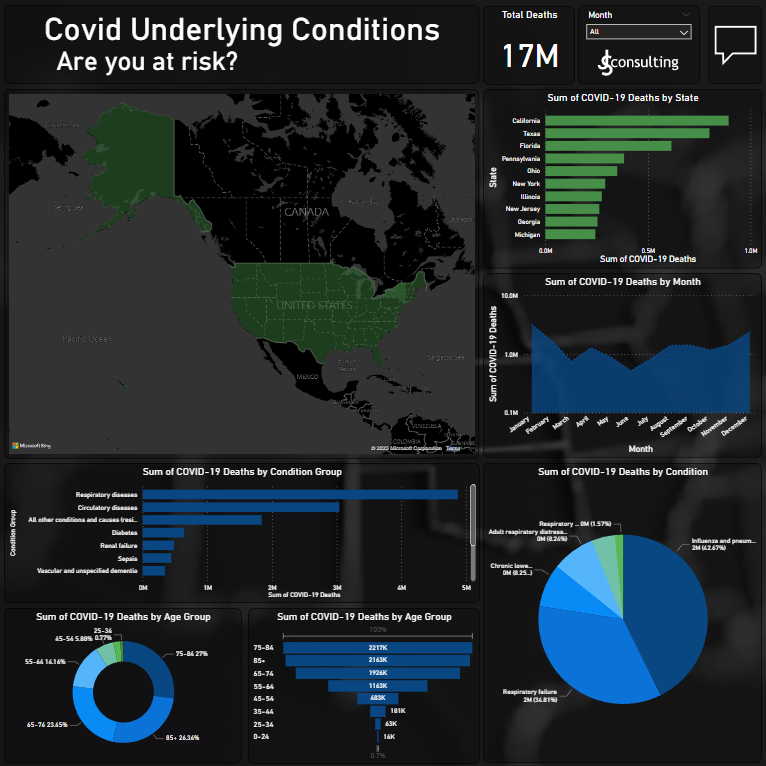

The page's visual inventory and layout, read from the dashboard file:
{"tool":"powerbi","page":{"name":"Covid Underlying Conditions Analysis","canvas":[1280,1280],"ordinal":0},"visuals":[{"type":"filledMap","fields":{"Category":["Covid_Deaths_Contributing_Conditions_Cleaned.State","Covid_Deaths_Contributing_Conditions_Cleaned.COVID-19 Deaths"]},"box":[6.7,147.8,792.2,615.6],"z":0},{"type":"barChart","fields":{"Y":["Sum(Covid_Deaths_Contributing_Conditions_Cleaned.COVID-19 Deaths)"],"Category":["Covid_Deaths_Contributing_Conditions_Cleaned.State"]},"box":[805,147.5,465,298.8],"z":1000},{"type":"card","title":"Total Deaths","fields":{"Values":["Sum(Covid_Deaths_Contributing_Conditions_Cleaned.COVID-19 Deaths)"]},"box":[805.6,10,153.3,131.1],"z":2000},{"type":"areaChart","fields":{"Category":["Covid_Deaths_Contributing_Conditions_Cleaned.Sample Start Date.Variation.Date Hierarchy.Month"],"Y":["Sum(Covid_Deaths_Contributing_Conditions_Cleaned.COVID-19 Deaths)"]},"box":[805,455,465,307.5],"z":3000},{"type":"textbox","box":[6.7,8.9,792.2,131.1],"z":4000},{"type":"actionButton","box":[1180,10,90,130],"z":6000},{"type":"slicer","fields":{"Values":["Covid_Deaths_Contributing_Conditions_Cleaned.Sample Start Date.Variation.Date Hierarchy.Month"]},"box":[958.9,9,202.6,130.6],"z":7000},{"type":"barChart","fields":{"Y":["Sum(Covid_Deaths_Contributing_Conditions_Cleaned.COVID-19 Deaths)"],"Category":["Covid_Deaths_Contributing_Conditions_Cleaned.Condition Group"]},"box":[6.2,771.2,792.5,232.5],"z":8000},{"type":"pieChart","fields":{"Y":["Sum(Covid_Deaths_Contributing_Conditions_Cleaned.COVID-19 Deaths)"],"Category":["Covid_Deaths_Contributing_Conditions_Cleaned.Condition"]},"box":[805,771.2,465,500],"z":9000},{"type":"donutChart","fields":{"Y":["Sum(Covid_Deaths_Contributing_Conditions_Cleaned.COVID-19 Deaths)"],"Category":["Covid_Deaths_Contributing_Conditions_Cleaned.Age Group"]},"box":[6.2,1012.5,396.2,258.8],"z":10000},{"type":"funnel","fields":{"Y":["Sum(Covid_Deaths_Contributing_Conditions_Cleaned.COVID-19 Deaths)"],"Category":["Covid_Deaths_Contributing_Conditions_Cleaned.Age Group"]},"box":[412.5,1012.5,386.2,260],"z":11000},{"type":"image","box":[1126.9,1155.5,142.6,124.5],"z":11001},{"type":"slicer","fields":{"Values":["Covid_Deaths_Contributing_Conditions_Cleaned.State"]},"box":[961.9,73.5,196,66],"z":11002}]}

Visuals, with their boxes in screenshot pixels (x1, y1, x2, y2), scaled from the page's 1280x1280 canvas onto the 766x766 screenshot:
filledMap - Covid_Deaths_Contributing_Conditions_Cleaned.State x Covid_Deaths_Contributing_Conditions_Cleaned.COVID-19 Deaths: crop(4, 88, 478, 457)
barChart - Sum(Covid_Deaths_Contributing_Conditions_Cleaned.COVID-19 Deaths) x Covid_Deaths_Contributing_Conditions_Cleaned.State: crop(482, 88, 760, 267)
"Total Deaths" card: crop(482, 6, 574, 84)
areaChart - Covid_Deaths_Contributing_Conditions_Cleaned.Sample Start Date.Variation.Date Hierarchy.Month x Sum(Covid_Deaths_Contributing_Conditions_Cleaned.COVID-19 Deaths): crop(482, 272, 760, 456)
textbox: crop(4, 5, 478, 84)
actionButton: crop(706, 6, 760, 84)
slicer - Covid_Deaths_Contributing_Conditions_Cleaned.Sample Start Date.Variation.Date Hierarchy.Month: crop(574, 5, 695, 84)
barChart - Sum(Covid_Deaths_Contributing_Conditions_Cleaned.COVID-19 Deaths) x Covid_Deaths_Contributing_Conditions_Cleaned.Condition Group: crop(4, 462, 478, 601)
pieChart - Sum(Covid_Deaths_Contributing_Conditions_Cleaned.COVID-19 Deaths) x Covid_Deaths_Contributing_Conditions_Cleaned.Condition: crop(482, 462, 760, 761)
donutChart - Sum(Covid_Deaths_Contributing_Conditions_Cleaned.COVID-19 Deaths) x Covid_Deaths_Contributing_Conditions_Cleaned.Age Group: crop(4, 606, 241, 761)
funnel - Sum(Covid_Deaths_Contributing_Conditions_Cleaned.COVID-19 Deaths) x Covid_Deaths_Contributing_Conditions_Cleaned.Age Group: crop(247, 606, 478, 762)
image: crop(674, 691, 760, 765)
slicer - Covid_Deaths_Contributing_Conditions_Cleaned.State: crop(576, 44, 693, 83)
